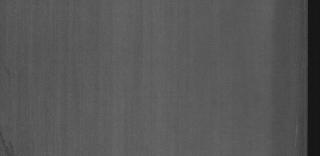water spot: (1, 126, 22, 156)
